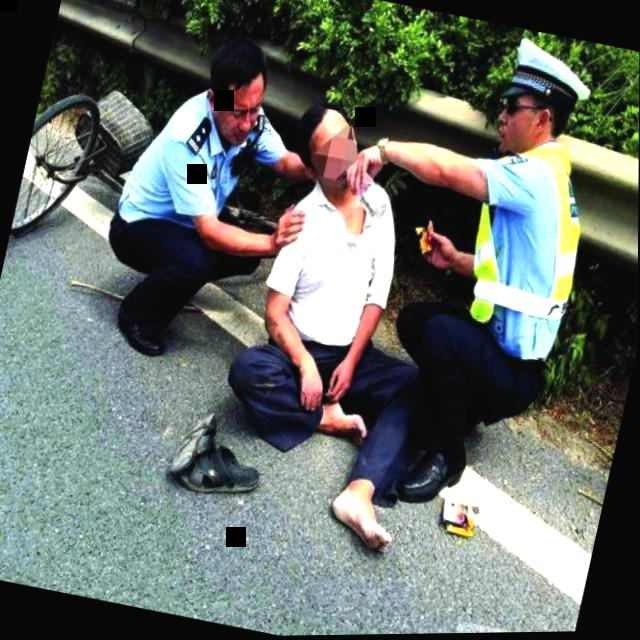Fall-Detected: (190, 62, 499, 589)
